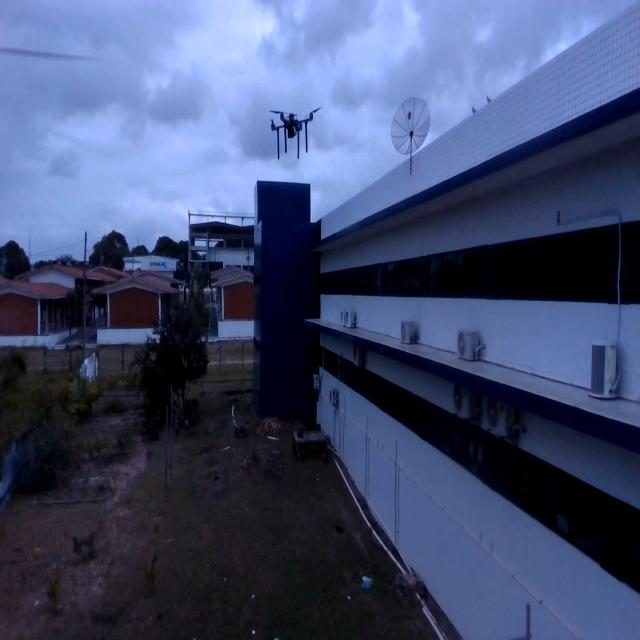-uav-: (259, 96, 325, 168)
